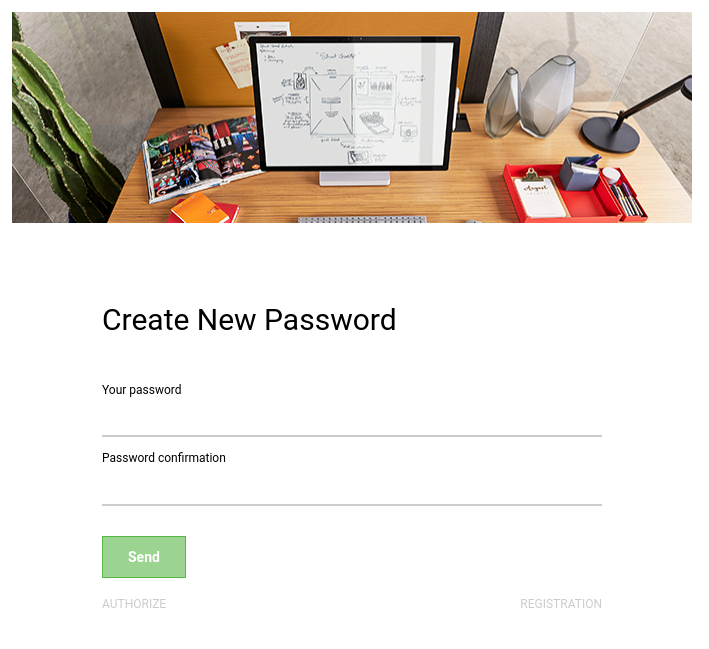
Scenario: NewPassword › input password › too long
In the password field with test id "input_password": (352, 418) x1=102 y1=399 x2=602 y2=438, type "1232133554756786788566345345345345456756878989008907890678"
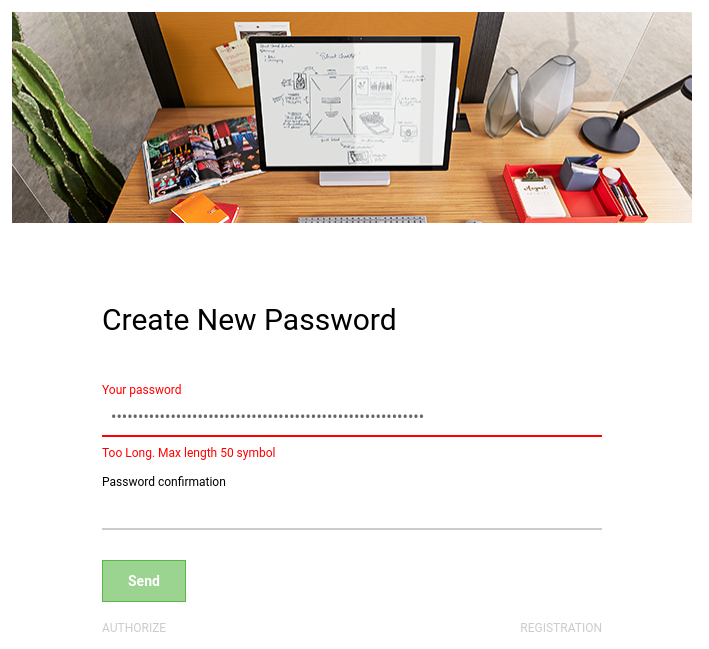
Now the element with test id "test_password" reads "Too Long. Max length 50 symbol", box x1=102 y1=446 x2=276 y2=460
